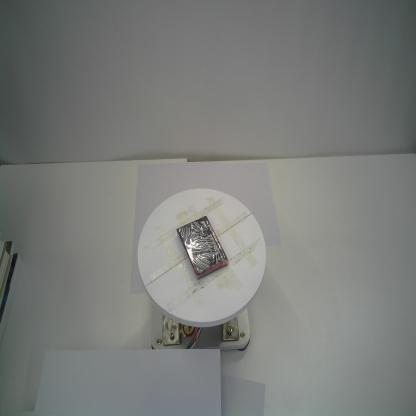Gum: (176, 215, 229, 281)
